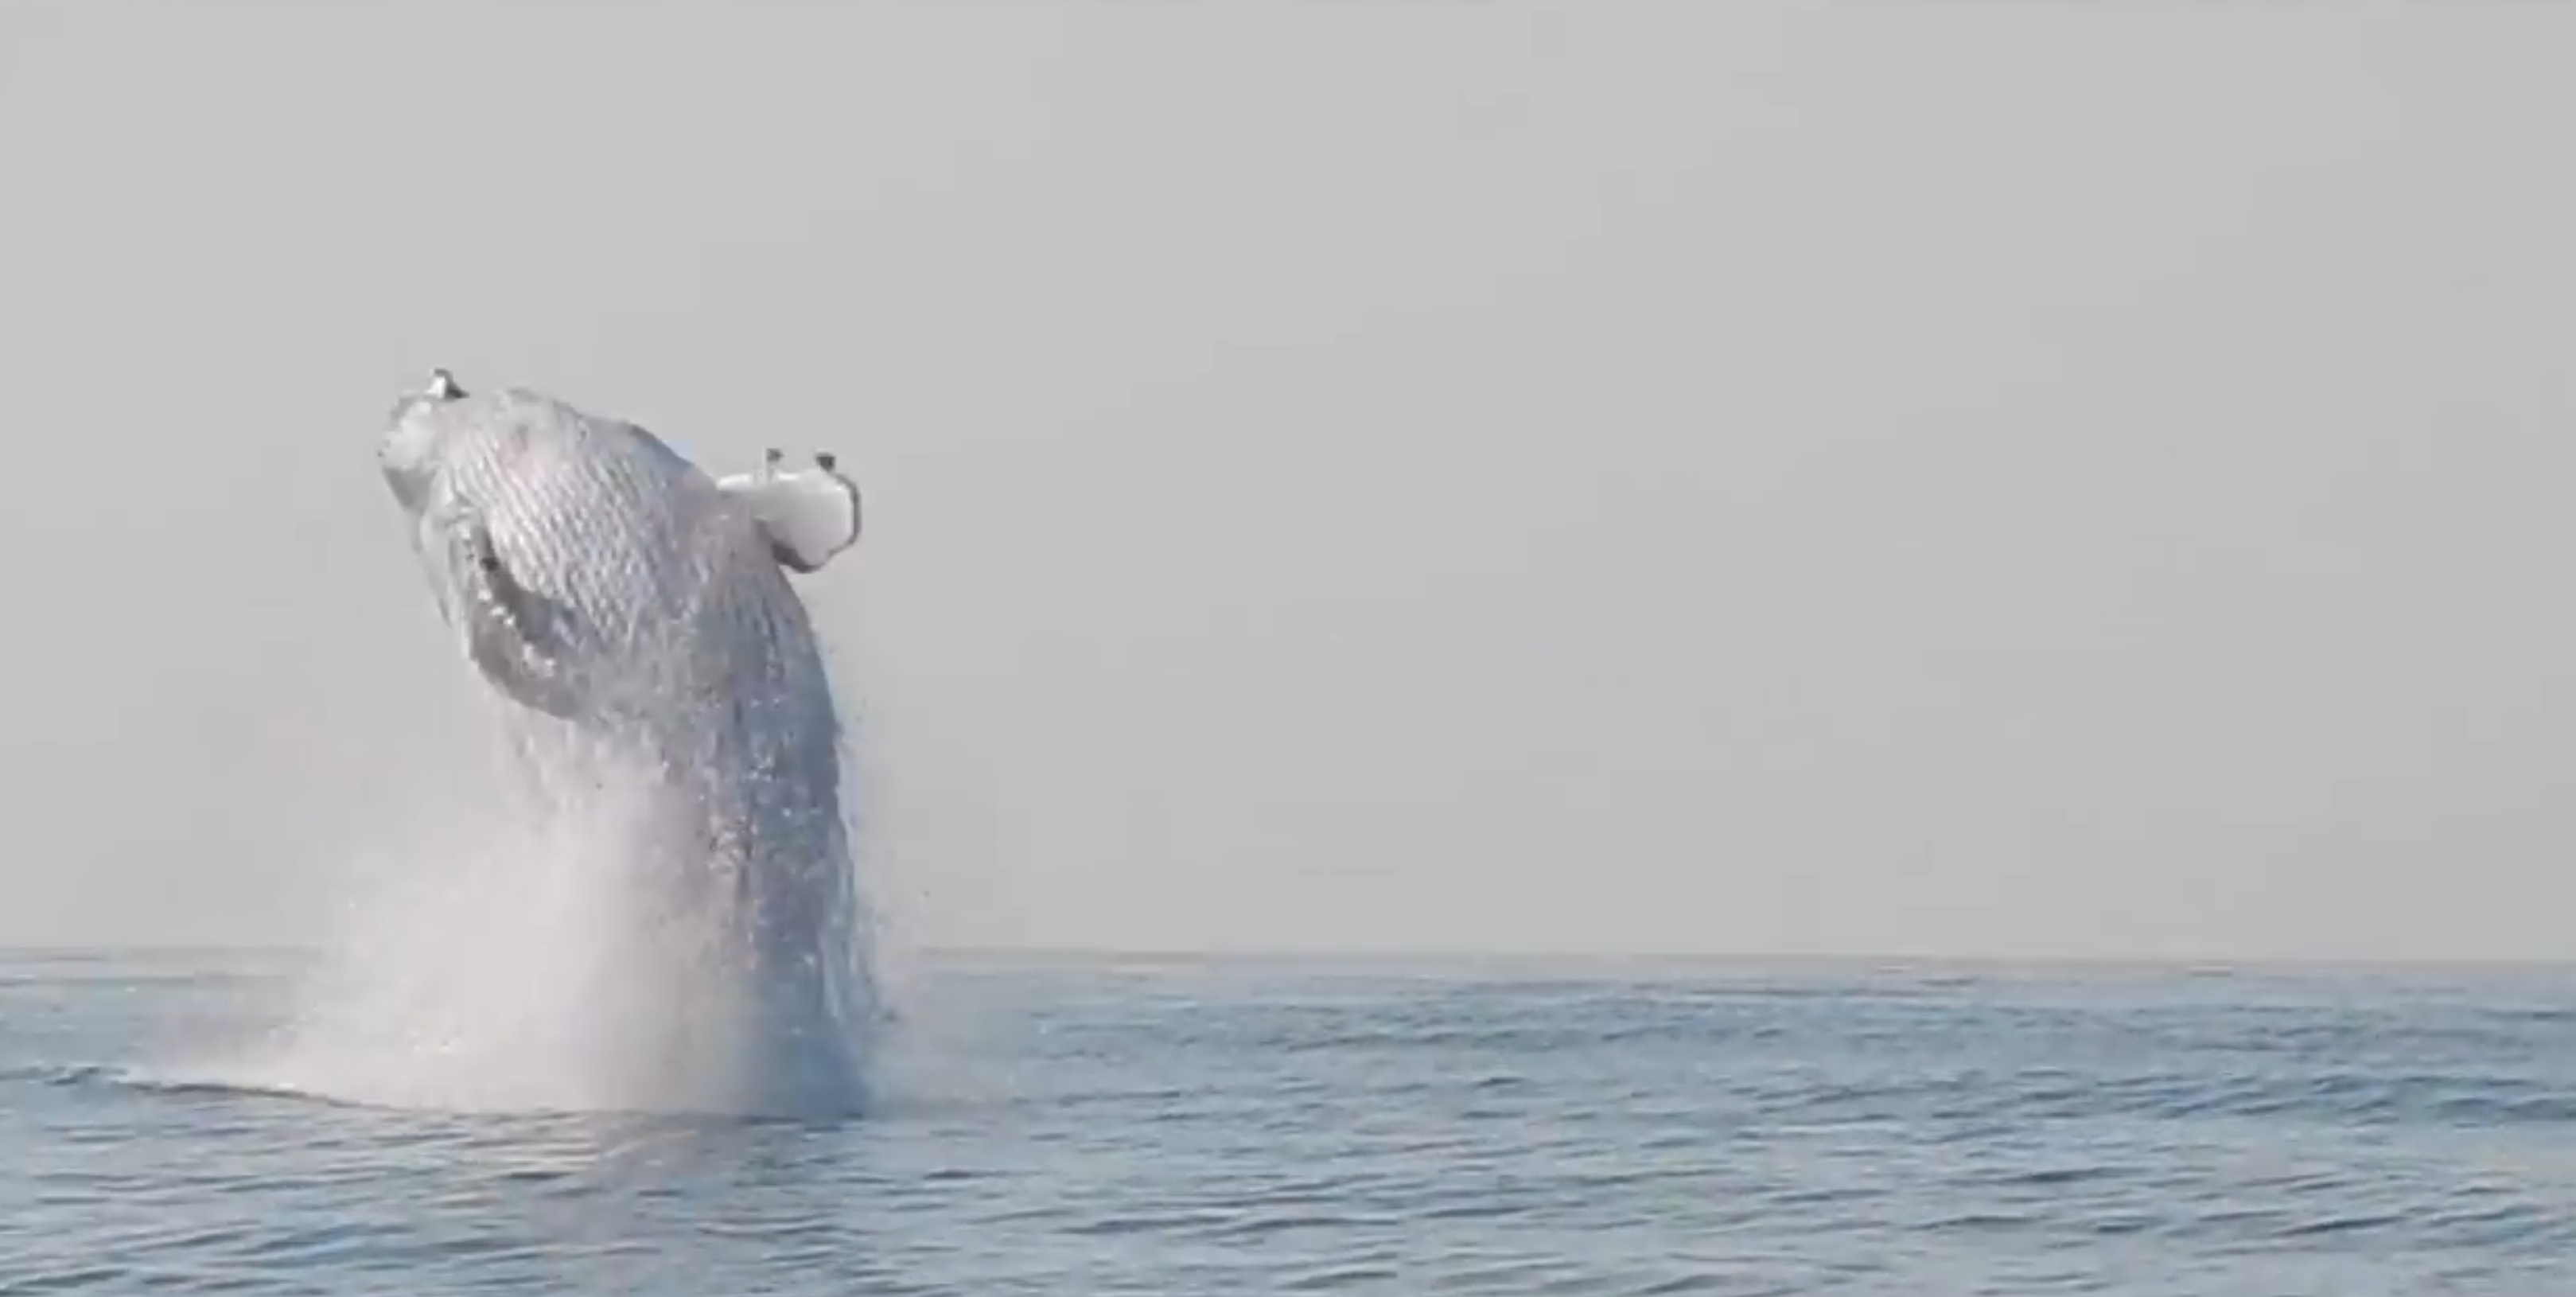humpback: (379, 374, 896, 1107)
